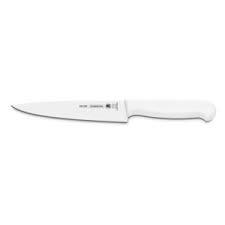Knife: (10, 97, 216, 123)
